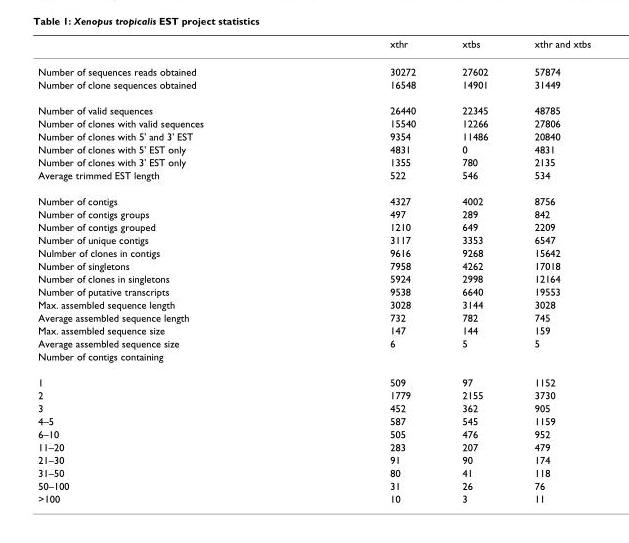table: (37, 37, 590, 504)
table column: (37, 37, 296, 504), (296, 37, 438, 504), (510, 37, 590, 504), (438, 37, 510, 504)
table column header: (37, 37, 590, 57)
table projected row header: (37, 349, 590, 368)
table row: (37, 37, 590, 57), (37, 57, 590, 77), (37, 77, 590, 97), (37, 187, 590, 207), (37, 368, 590, 388), (37, 97, 590, 116), (37, 168, 590, 187), (37, 349, 590, 368), (37, 116, 590, 129), (37, 129, 590, 142), (37, 142, 590, 155), (37, 155, 590, 168), (37, 207, 590, 220), (37, 232, 590, 245), (37, 245, 590, 258), (37, 258, 590, 271), (37, 271, 590, 284), (37, 284, 590, 297), (37, 297, 590, 310), (37, 310, 590, 323), (37, 323, 590, 336), (37, 336, 590, 349), (37, 388, 590, 401), (37, 401, 590, 414), (37, 414, 590, 427), (37, 427, 590, 440), (37, 440, 590, 453), (37, 465, 590, 478), (37, 478, 590, 491), (37, 491, 590, 504), (37, 220, 590, 232), (37, 453, 590, 465)
